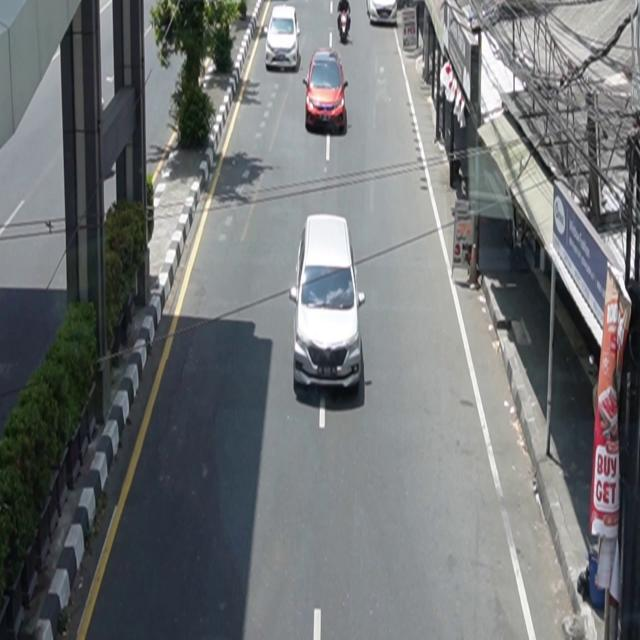car: (290, 214, 366, 393), (304, 48, 350, 135), (266, 5, 301, 72), (367, 1, 398, 26), (338, 1, 352, 44)
